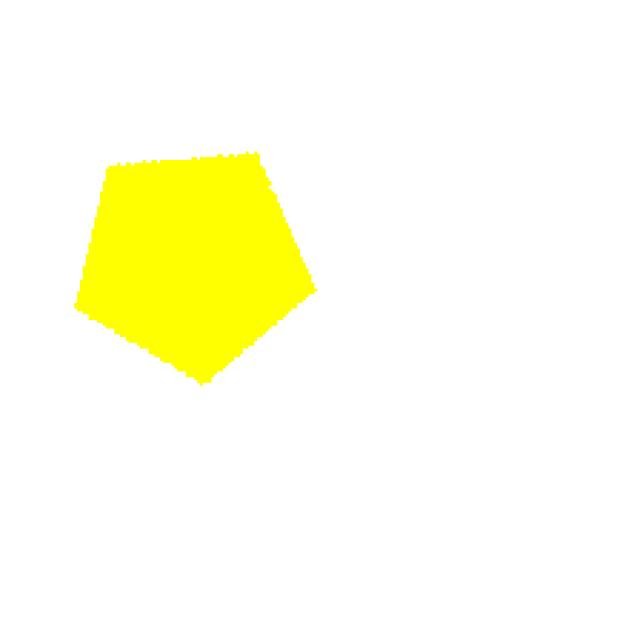Pentagon: (57, 127, 349, 392)
